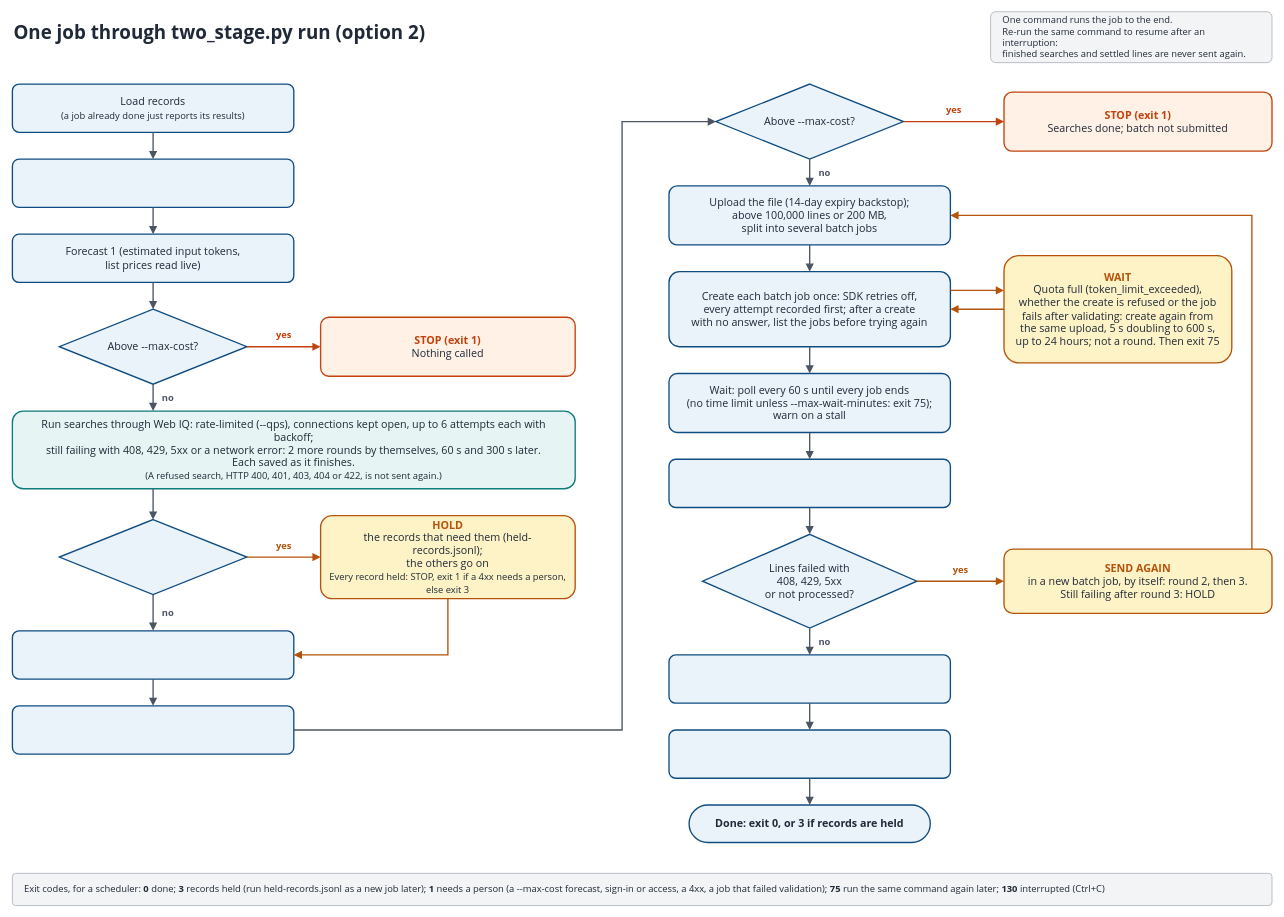
The diagram is 1284 pixels wide and 917 high, and some of its shapes have lost their labels. Each missing label, with the centre of its shape:
Build no-tools batch file (evidence + rules + JSON schema): point (152, 654)
Build search plan (lean or full): point (152, 183)
Clean up: delete the batch files in Azure OpenAI and the local evidence: point (809, 754)
Collect the output and error files; sort each line: point (809, 483)
Forecast 2 (prompt text counted exactly): point (152, 729)
Searches still failing?: point (152, 557)
Write results.jsonl, held-records.jsonl and the actual cost to run.json: point (809, 679)
